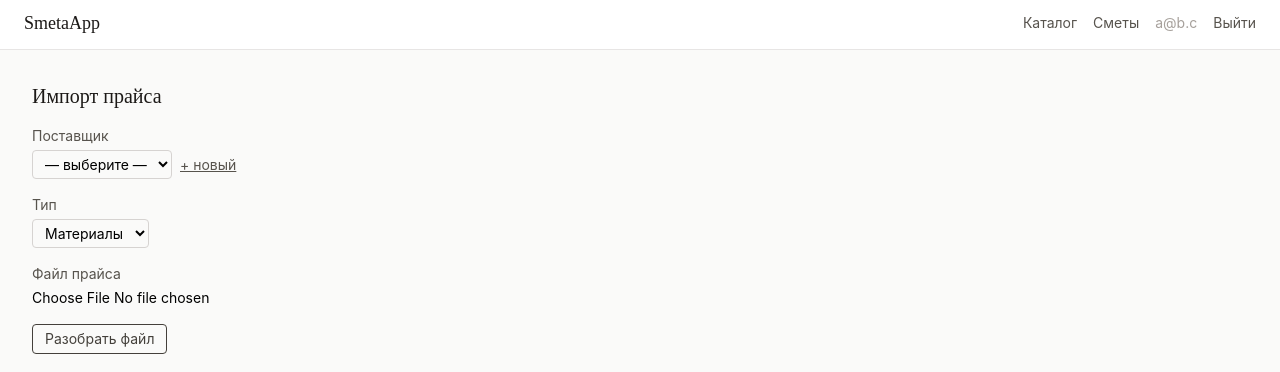
Test: ImportPage › creates a supplier inline and selects it
Click the button "+ новый" at (208, 165), box [180,155,236,175]
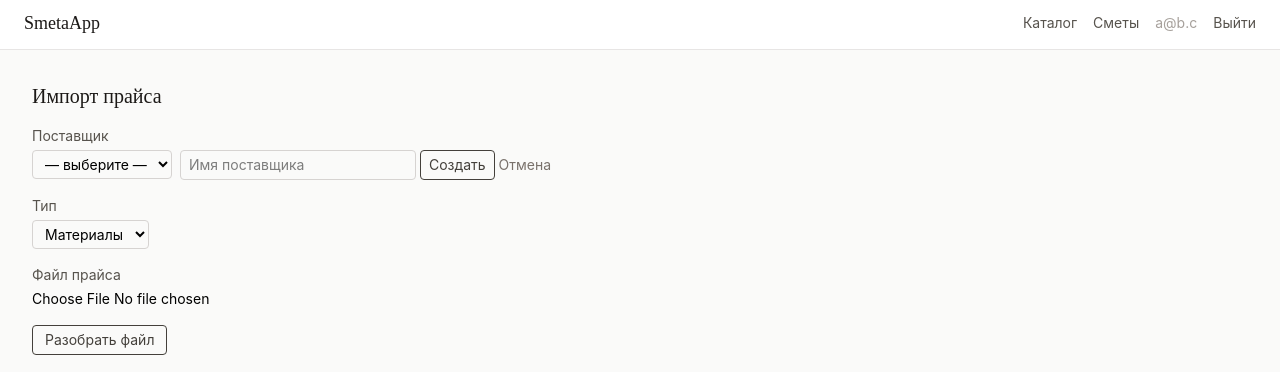
Type "Новый" into the field with placeholder "Имя поставщика" at (298, 165), box [180,150,416,180]
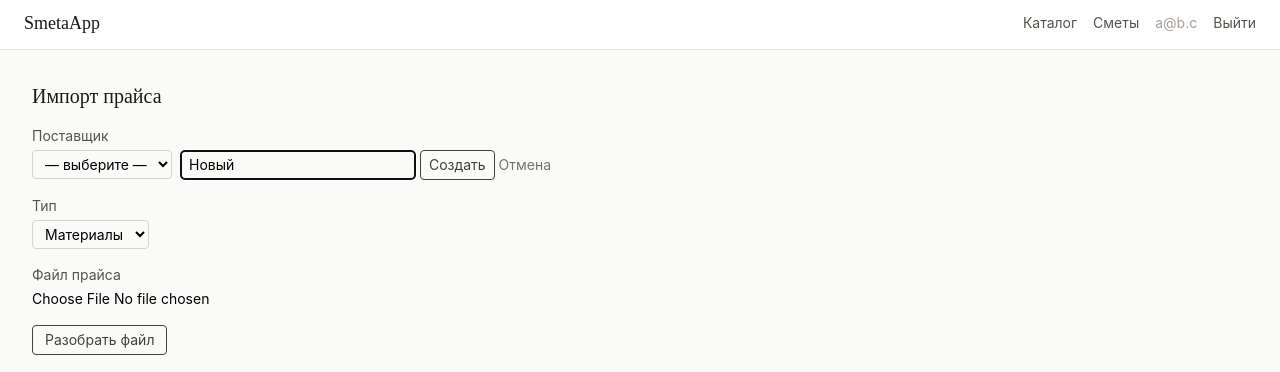
Click the button "Создать" at (457, 165), box [420,150,494,180]
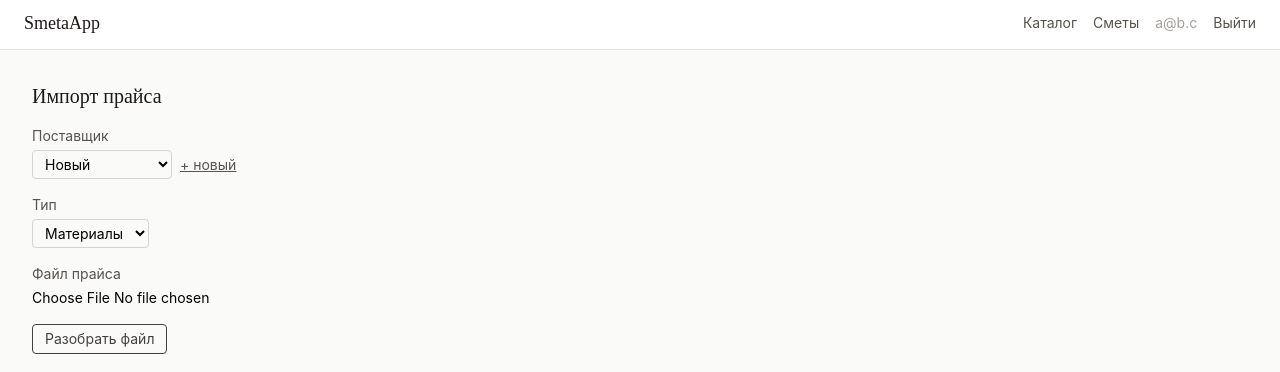
Result: the dropdown labelled "Поставщик" shows "Новый" at [32,150,172,179]
